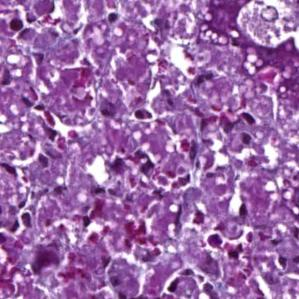inflammation: (0, 3, 40, 46), (104, 144, 107, 146)
